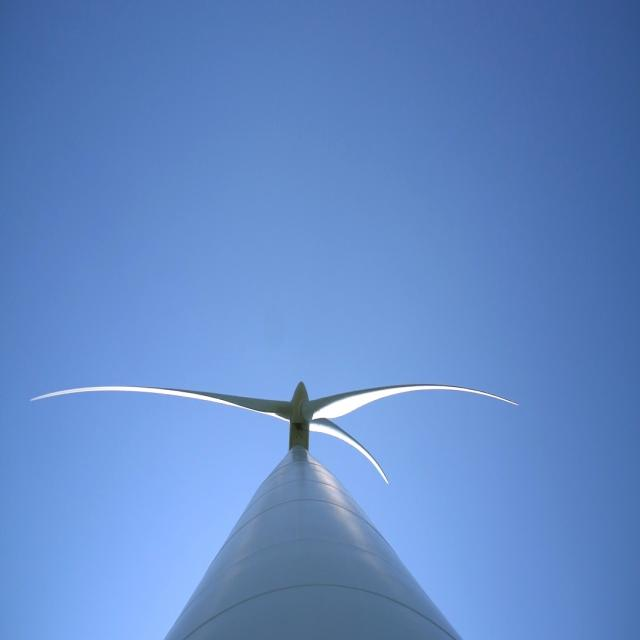blade 1: (350, 434, 395, 484)
blade 2: (32, 354, 280, 416)
blade 3: (324, 358, 576, 421)
